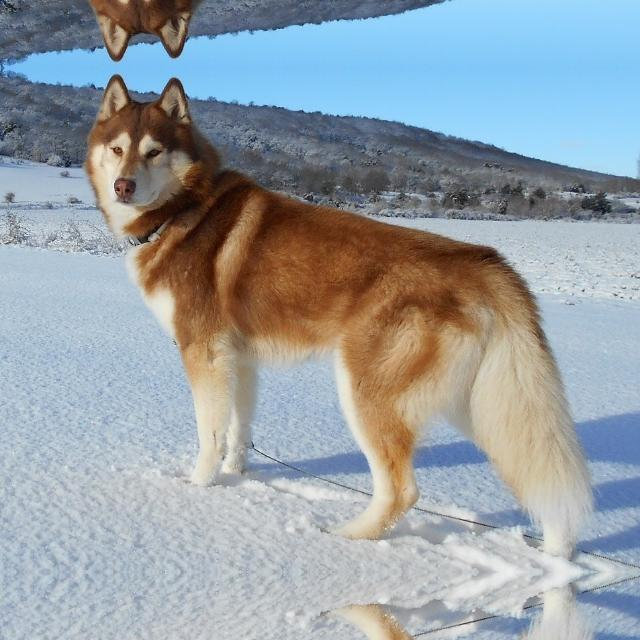dog: (85, 77, 600, 539), (85, 0, 600, 57), (85, 603, 600, 640)
